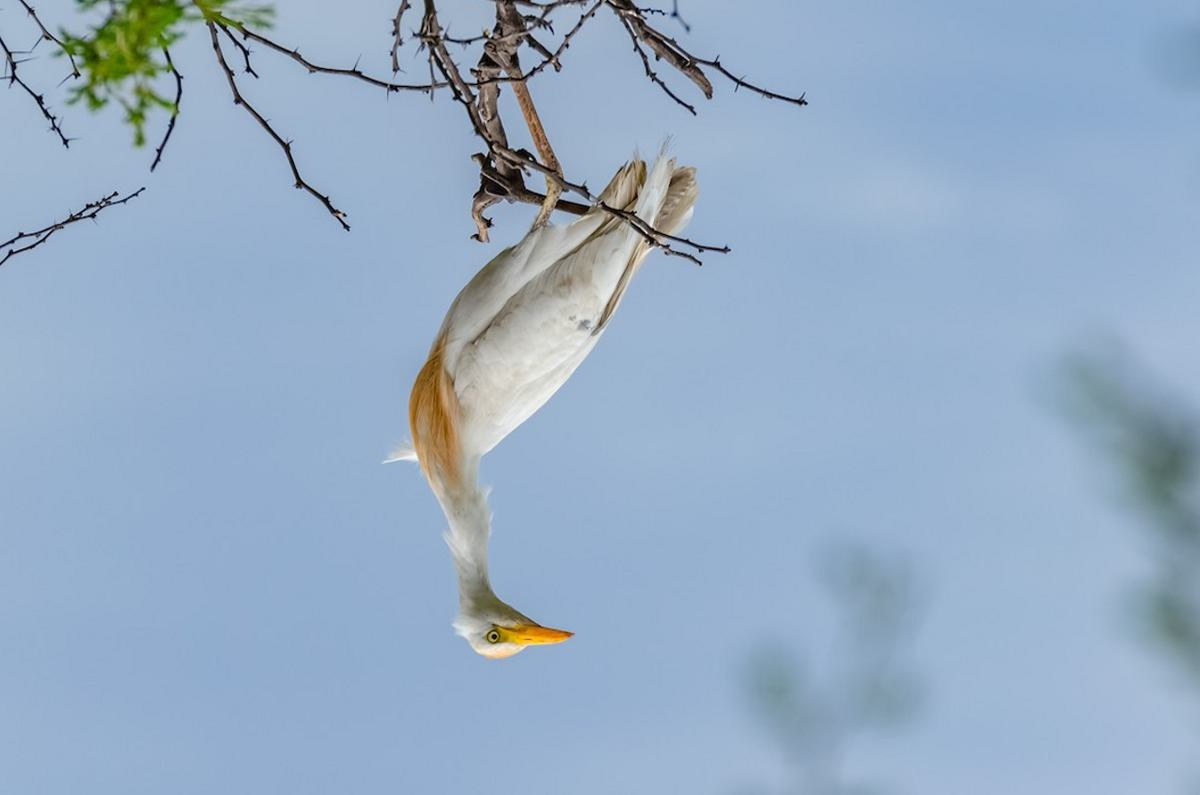egret: (371, 135, 725, 669)
